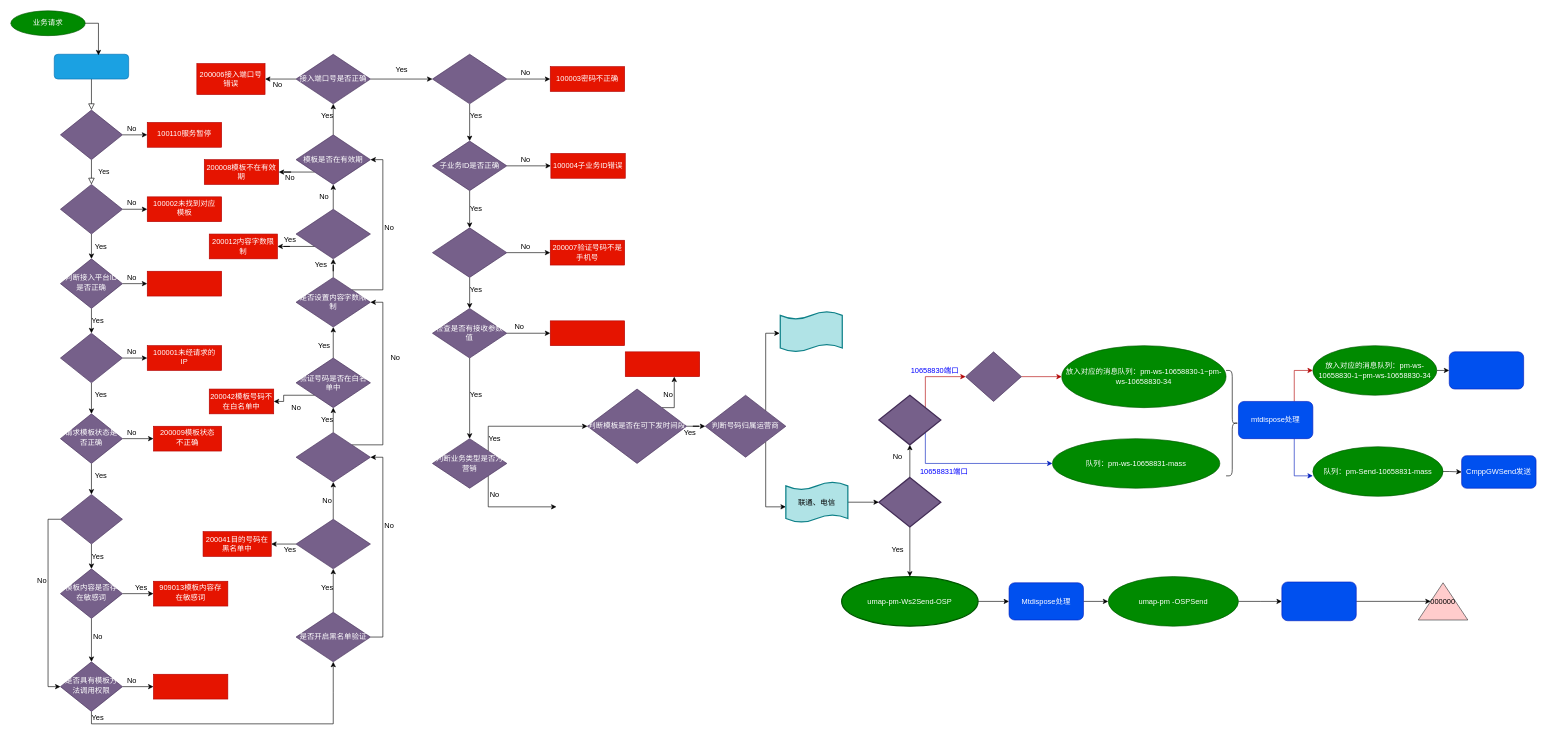
Some shapes in this 1547 by 740 pixel diagram are drawn without their labels. Each missing label, with the centre of its shape:
"100002接入平台错误" goes at (184,283).
"100005没有方法调用权限" goes at (190,686).
"400001营销类业务受下发时间影响" goes at (662,364).
"900006内部错误" goes at (587,333).
"HWCMSend发送" goes at (1486,370).
"OSPSend发送" goes at (1318,601).
"下行接收PMWS" goes at (91,66).
"内容字数是否超出限制" goes at (332,234).
"判断号码所在省份" goes at (993,376).
"判断是否是对应模板" goes at (91,209).
"判断服务是否暂停" goes at (91,134).
"密码是否正确" goes at (469,79).
"是否为允许请求IP" goes at (91,358).
"是否开启敏感词过滤" goes at (91,519).
"是否开启白名单验证" goes at (332,457).
"是否有异网模板" goes at (909,501).
"目的号码是否为手机号" goes at (469,252).
"移动" goes at (811,331).
"端口为30或31" goes at (909,419).
"验证号码是否在黑名单中" goes at (332,544).
